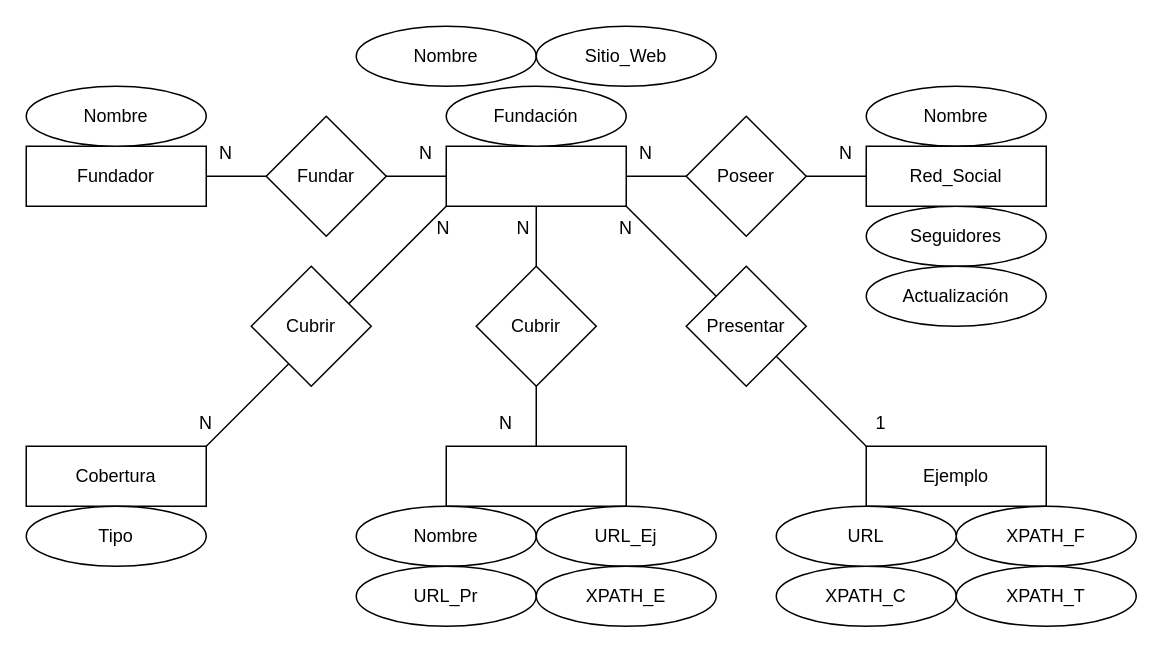
Image size: 1163x653. Some labels were removed from this diagram. Each missing label, with the centre of its shape:
"Categoría" belongs at (535,475).
"Prensa" belongs at (535,175).
